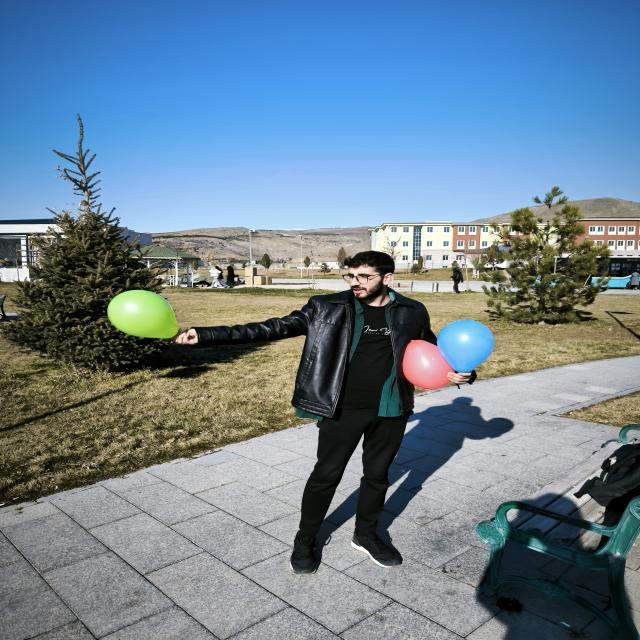balloon: (108, 290, 178, 338), (437, 320, 494, 370), (402, 340, 453, 389)
